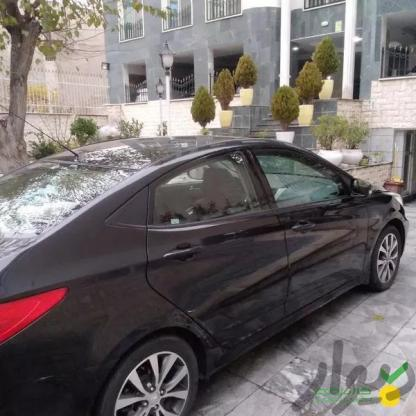Car: (0, 123, 416, 416)
